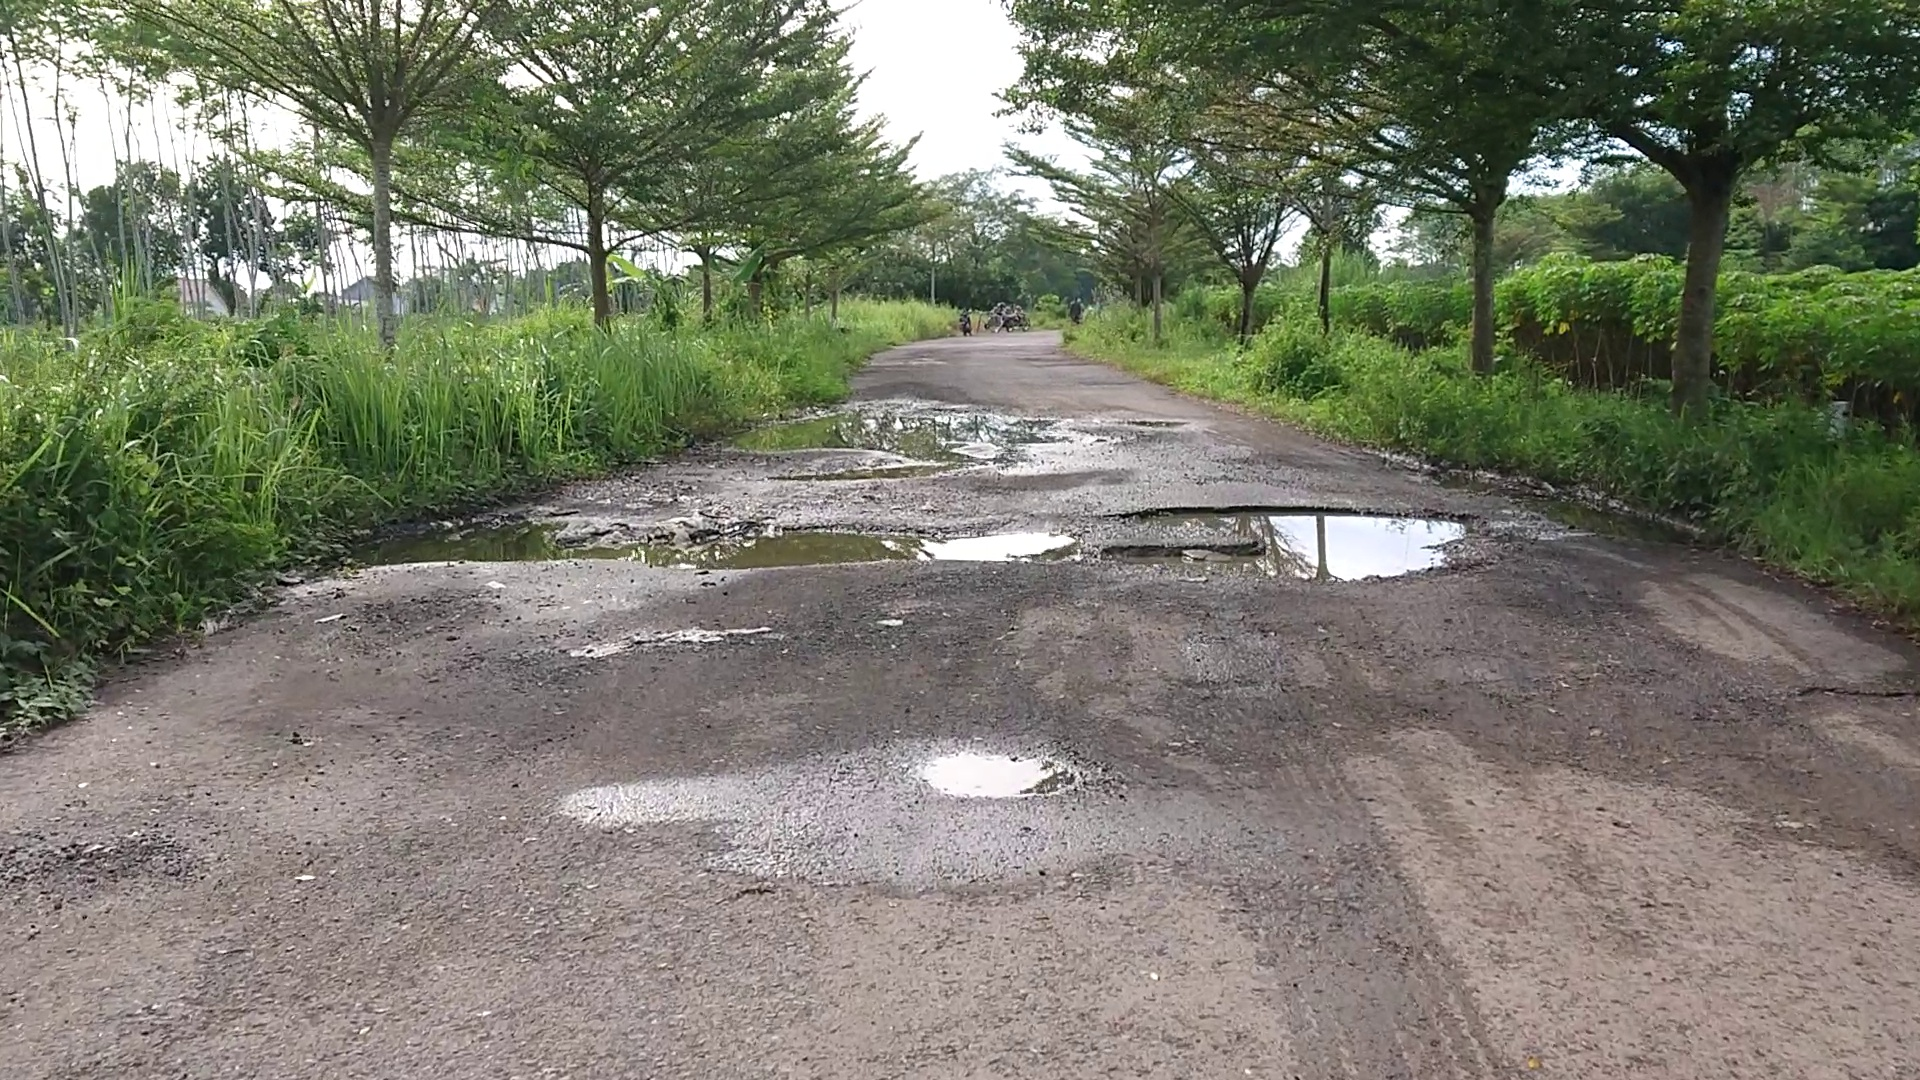Berlubang: (1104, 497, 1486, 597), (392, 520, 1073, 562), (711, 409, 1135, 465)
